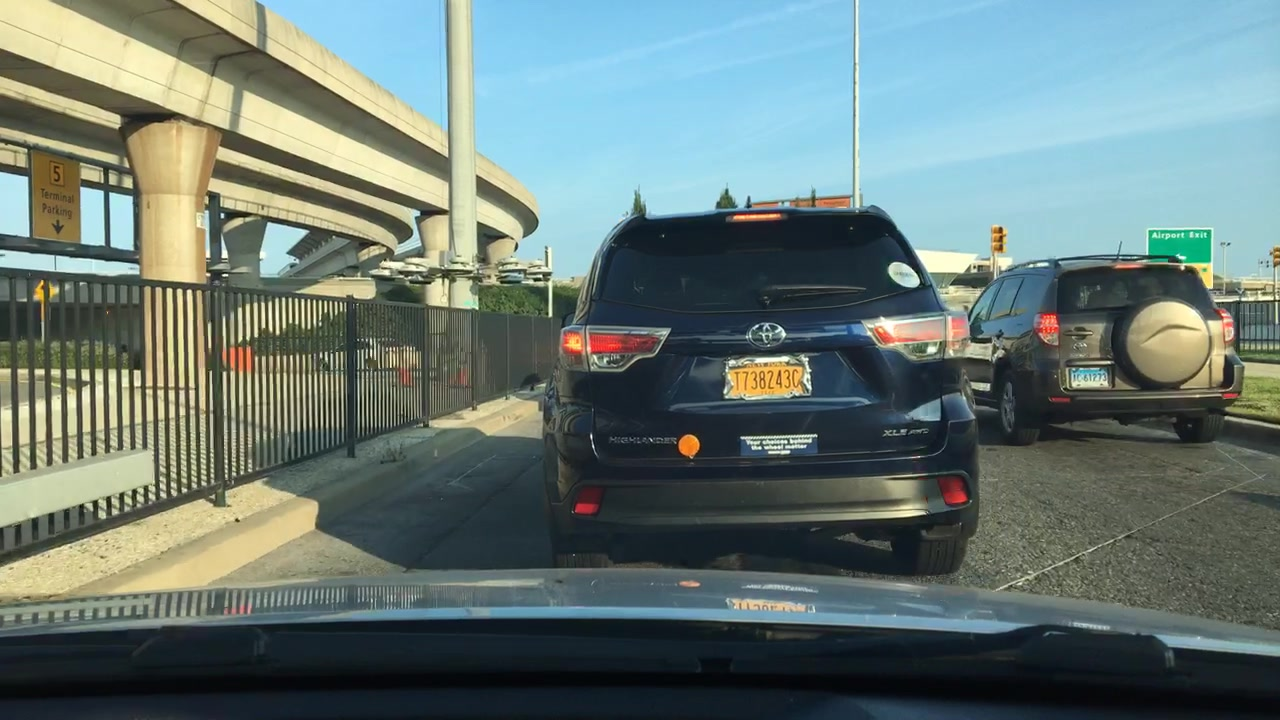licence: (722, 359, 812, 401)
